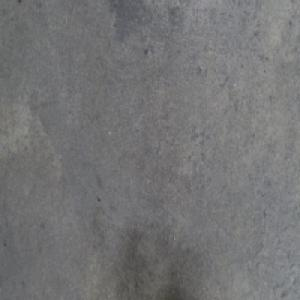AdjustableWrench: (168, 289, 199, 299)
